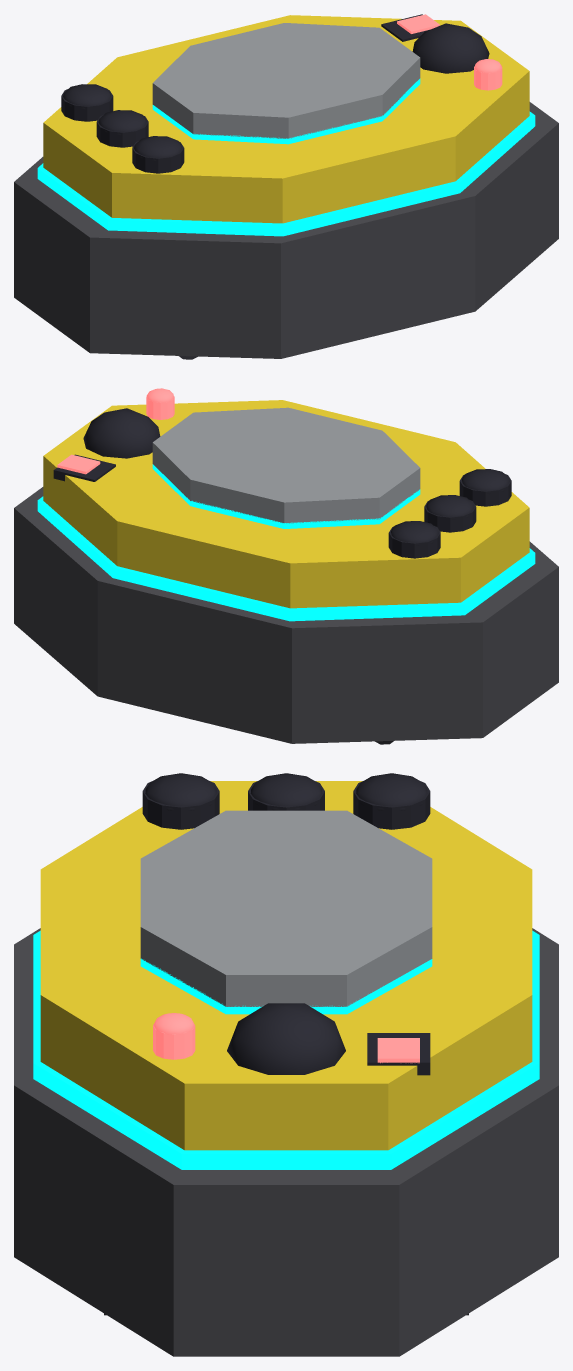
Rendered from AGV_Mouse.fbx.
3 renders of one model, top to bottom at view 1: azimuth 30°, elevation 25°; view 2: azimuth 150°, elevation 25°; view 3: azimuth 270°, elevation 25°, orthographic. The views are drawn at different scales.
Visible parts, largest first — view 1: AGV_Chassis, AGV_LiftPlate; view 2: AGV_Chassis, AGV_LiftPlate; view 3: AGV_Chassis, AGV_LiftPlate.
Boxes of the visible parts, x1,y1,x2,y2 form: AGV_Chassis: (14, 14, 558, 359); AGV_LiftPlate: (152, 23, 420, 138); AGV_Chassis: (14, 388, 558, 744); AGV_LiftPlate: (152, 407, 420, 523); AGV_Chassis: (14, 773, 558, 1356); AGV_LiftPlate: (140, 810, 432, 1006).
Bounding box in the file's own units: 1.15 × 0.488 × 0.7761.
